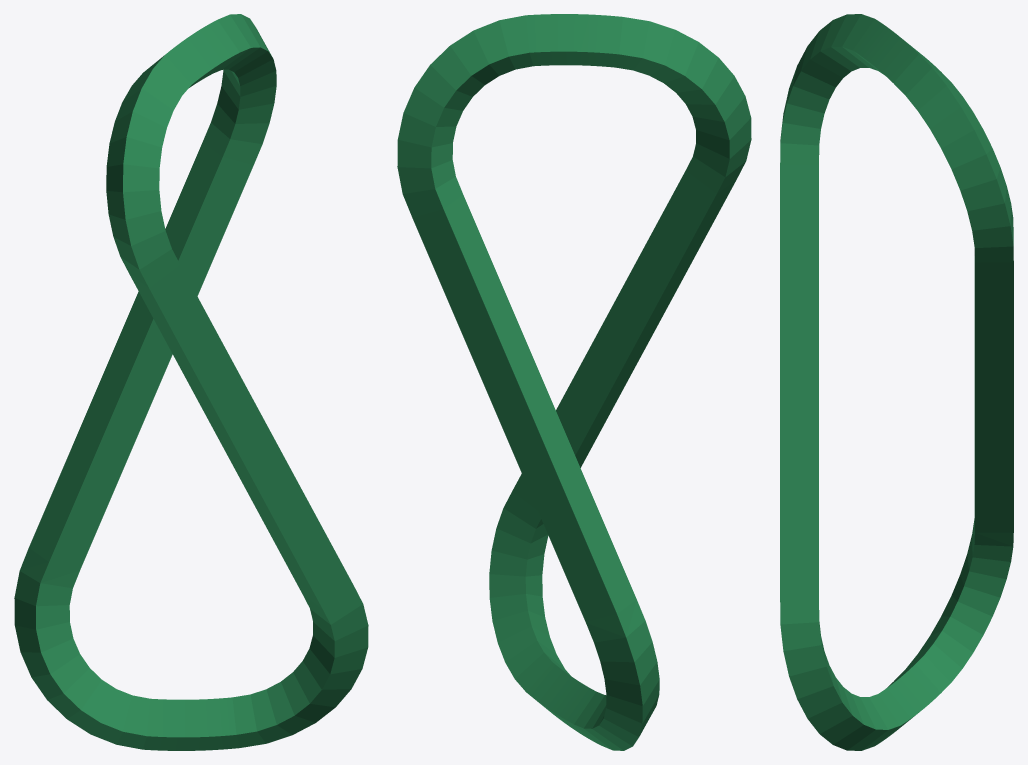
File: Vegetation_Verdant_Grass_Topiary_Mobius_Strip_01.FBX
3 renders of one model, left to right at view 1: azimuth 30°, elevation 25°; view 2: azimuth 150°, elevation 25°; view 3: azimuth 270°, elevation 25°, orthographic. The views are drawn at different scales.
Parts seen in each view (by area): view 1: Vegetation_Verdant_Grass_Topiary_Mobius_Strip_01; view 2: Vegetation_Verdant_Grass_Topiary_Mobius_Strip_01; view 3: Vegetation_Verdant_Grass_Topiary_Mobius_Strip_01.
Boxes of the visible parts, left/top/right/bottom form: Vegetation_Verdant_Grass_Topiary_Mobius_Strip_01: left=14, top=14, right=368, bottom=750; Vegetation_Verdant_Grass_Topiary_Mobius_Strip_01: left=397, top=14, right=751, bottom=750; Vegetation_Verdant_Grass_Topiary_Mobius_Strip_01: left=780, top=14, right=1013, bottom=750.
Bounding box in the file's own units: 3563 × 10045 × 3057.
